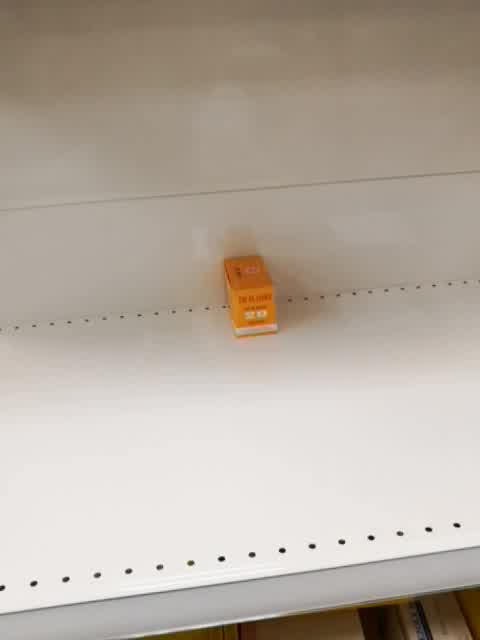jasminetea: (221, 254, 277, 338)
